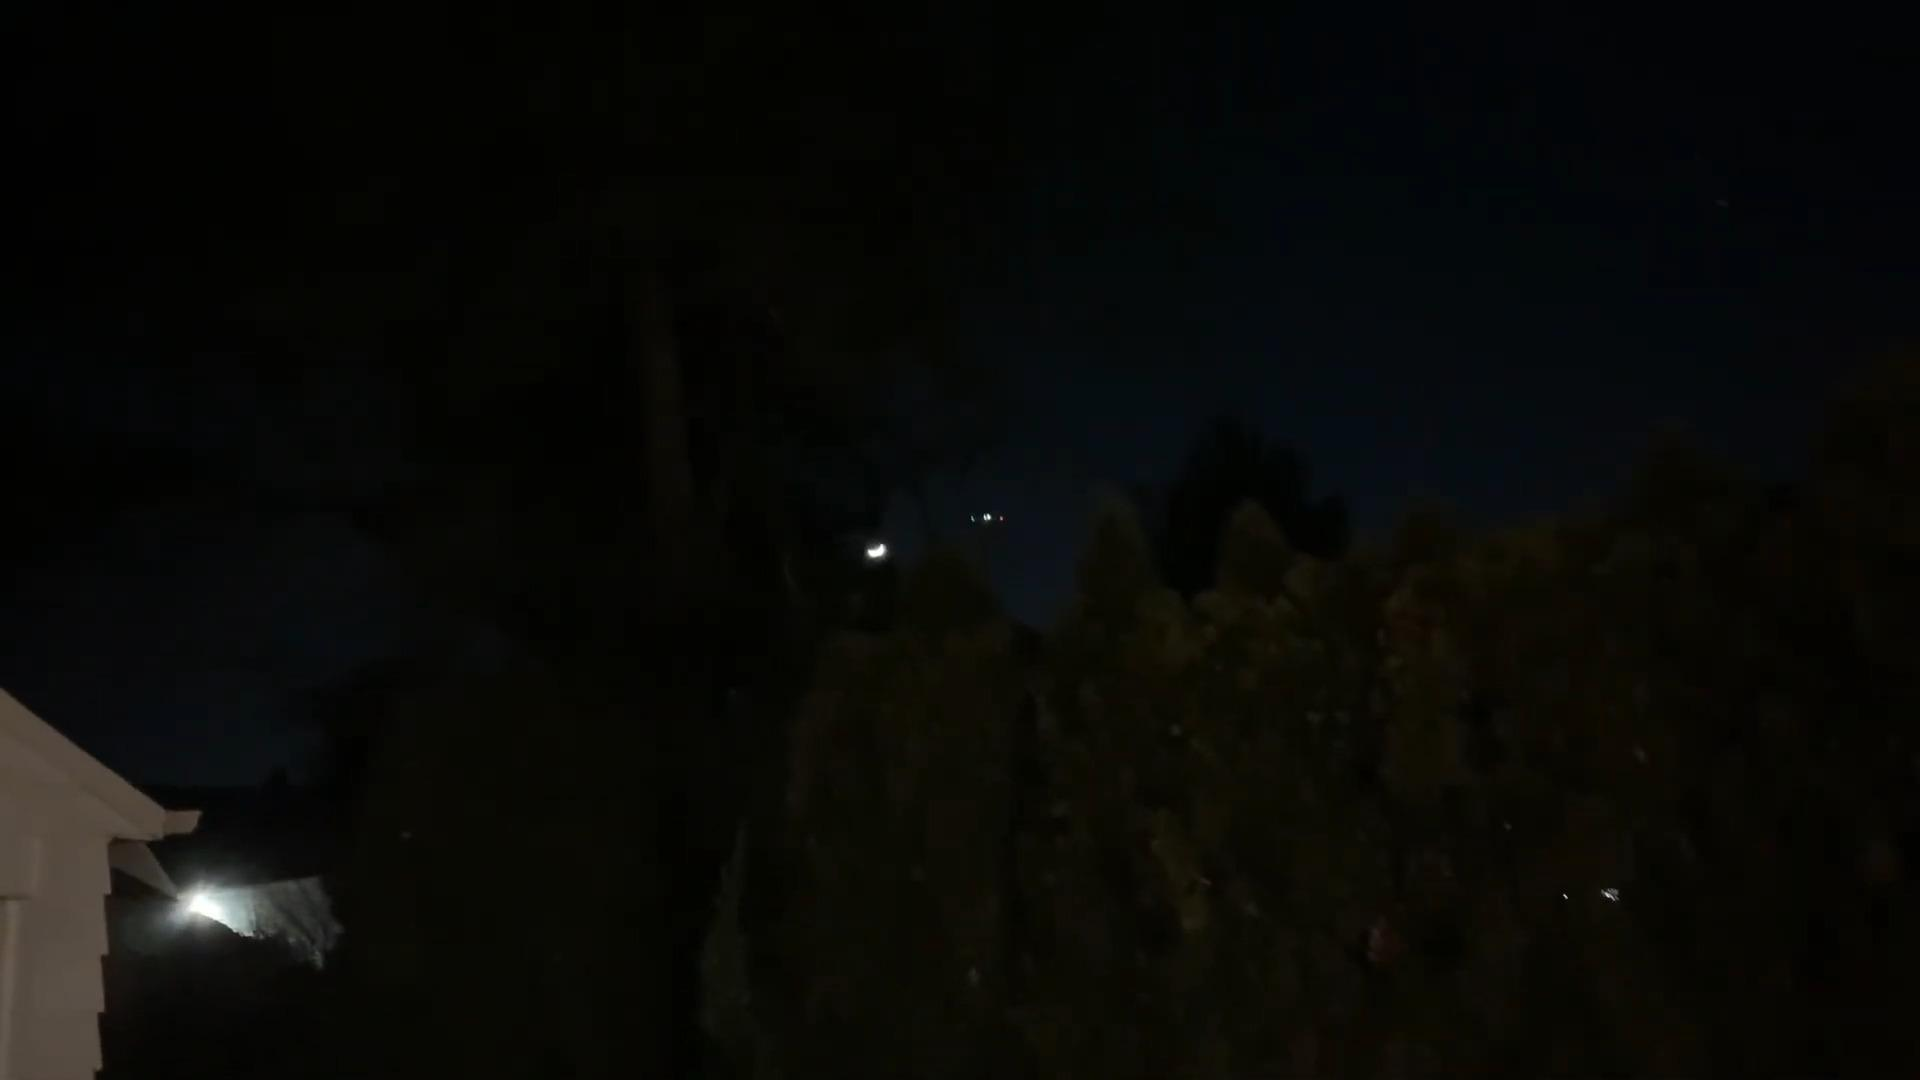Plane: (961, 495, 1010, 546)
